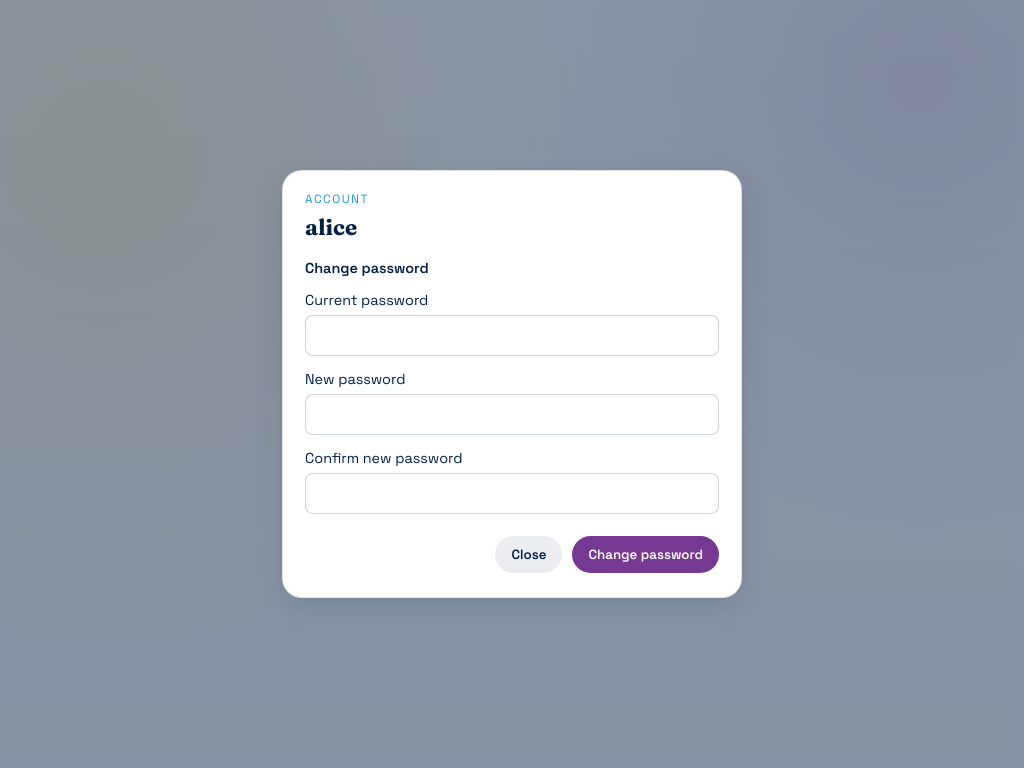
Test case: UserProfileModal › shows error when passwords do not match
In the password field labelled "Current password": {"x": 512, "y": 336} [305,315,719,356], type "oldpass"
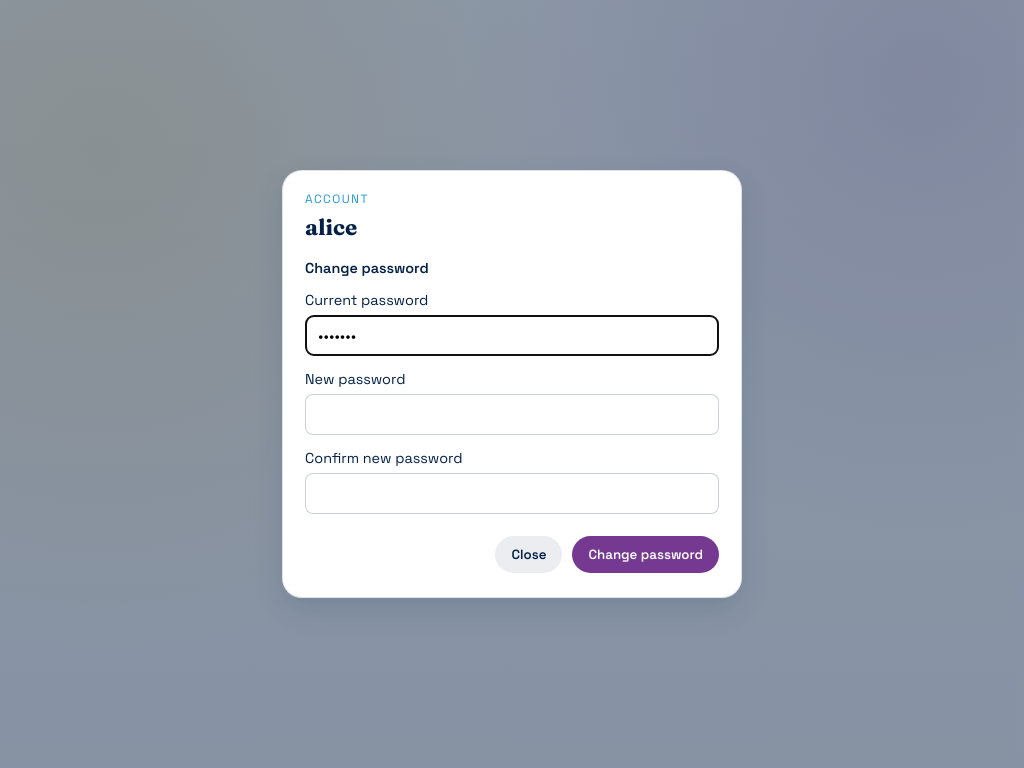
In the password field labelled "New password": {"x": 512, "y": 414} [305,394,719,435], type "newpass1"
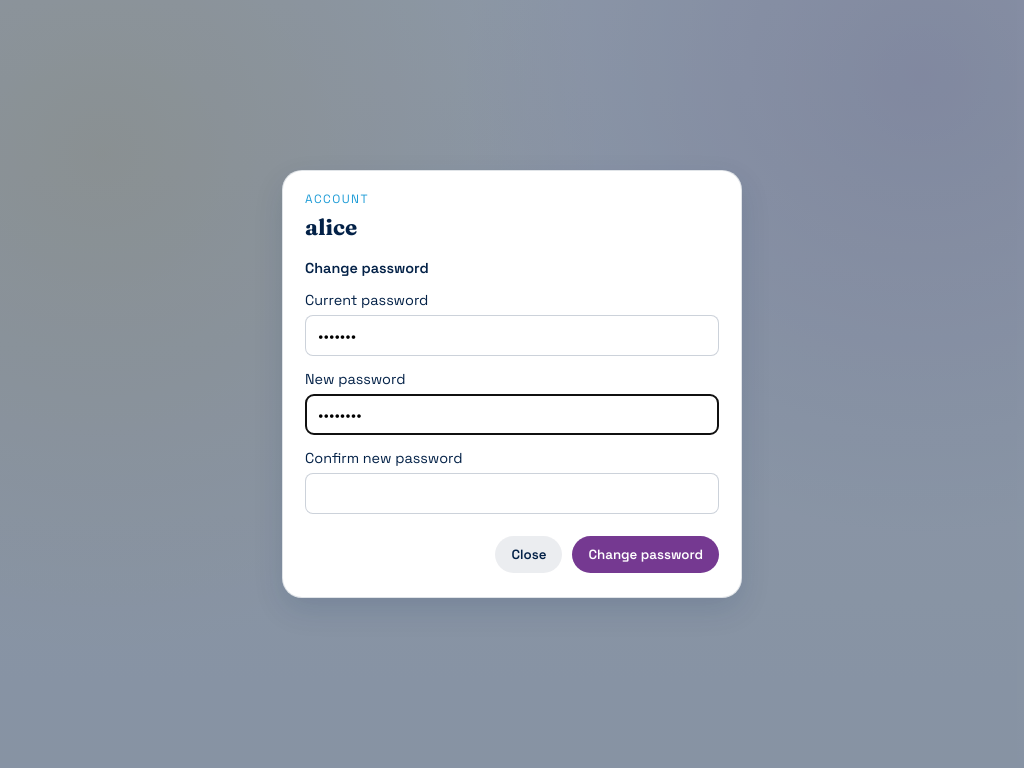
In the password field labelled "Confirm new password": {"x": 512, "y": 494} [305,473,719,514], type "newpass2"
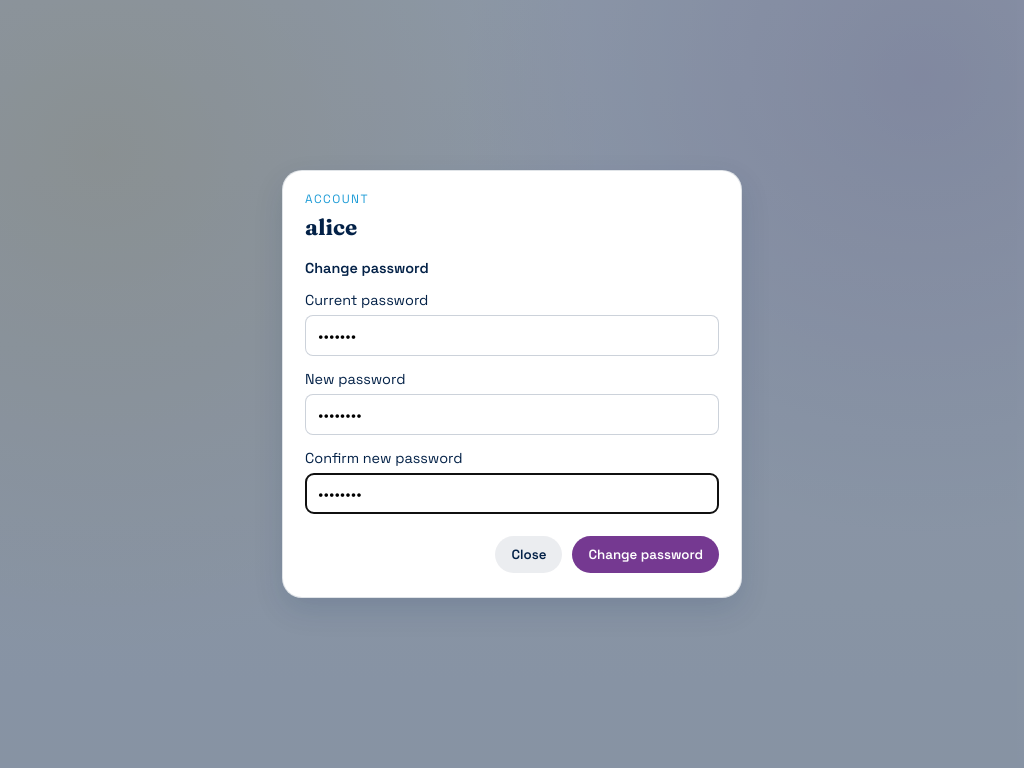
Click the button "Change password": {"x": 646, "y": 554} [572,536,719,573]
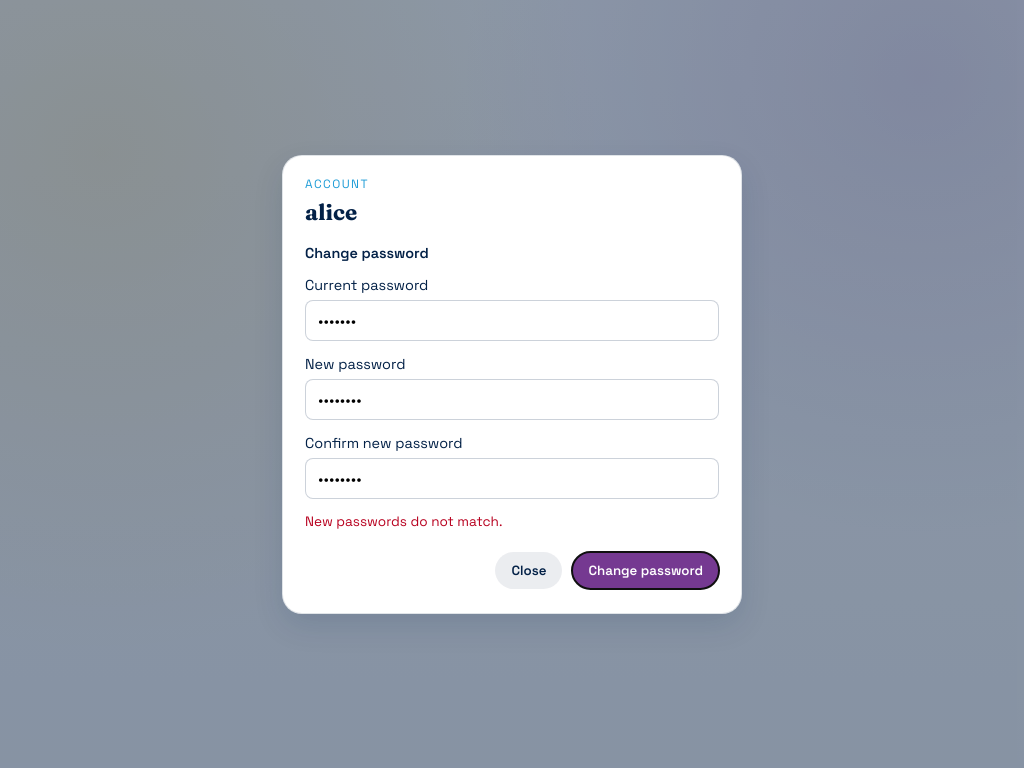
Expected: the text "New passwords do not match." is shown, [305,512,502,530]
